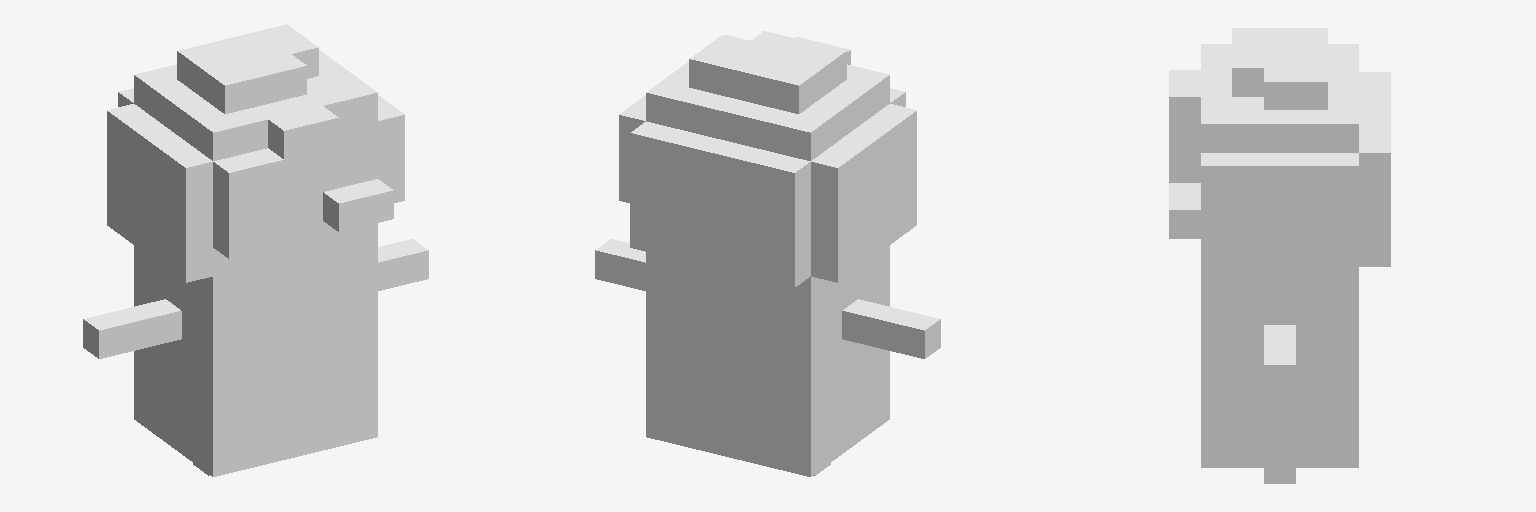
Rendered from juingong.obj.
3 views of the same model, side by side, from view 1: azimuth 30°, elevation 25°; view 2: azimuth 150°, elevation 25°; view 3: azimuth 270°, elevation 25° (orthographic).
Visible parts, largest first — view 1: juingong; view 2: juingong; view 3: juingong.
Part boxes in pixels (left/top/right/bottom): juingong: left=83, top=24, right=428, bottom=476; juingong: left=595, top=31, right=940, bottom=476; juingong: left=1169, top=28, right=1390, bottom=483.
Bounding box in the file's own units: 12 × 14 × 7.